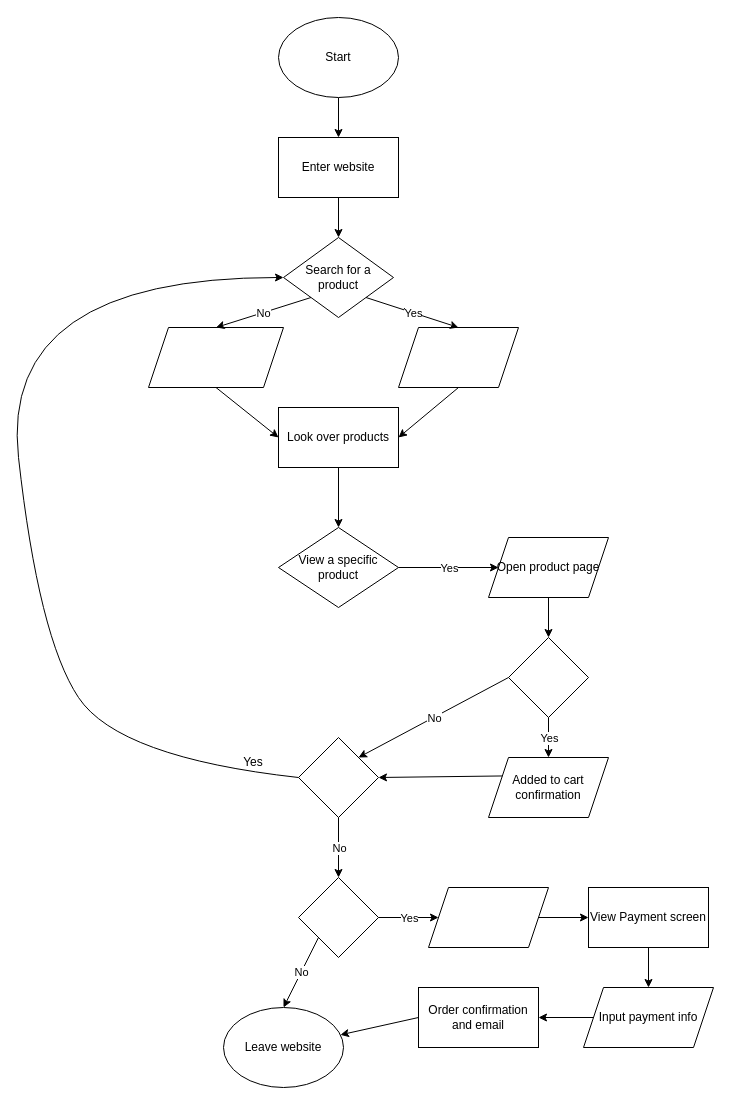
The diagram is 732 pixels wide and 1105 high, and some of its shapes have lost their labels. The centre of each missing label's shape, as x and y in pixels:
Add to cart: (548,677)
Check out: (338,917)
Continue shopping: (338,777)
Enter input: (458,357)
Explore home page: (216,357)
View Cart screen: (488,917)
